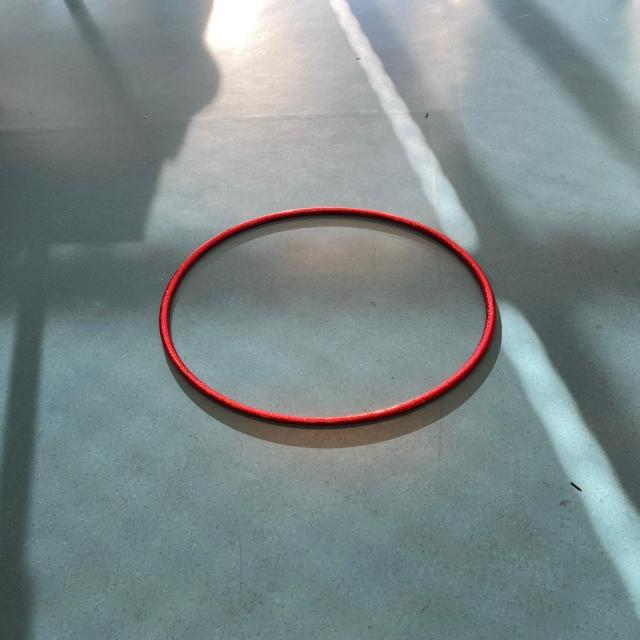Circle: (154, 202, 509, 432)
